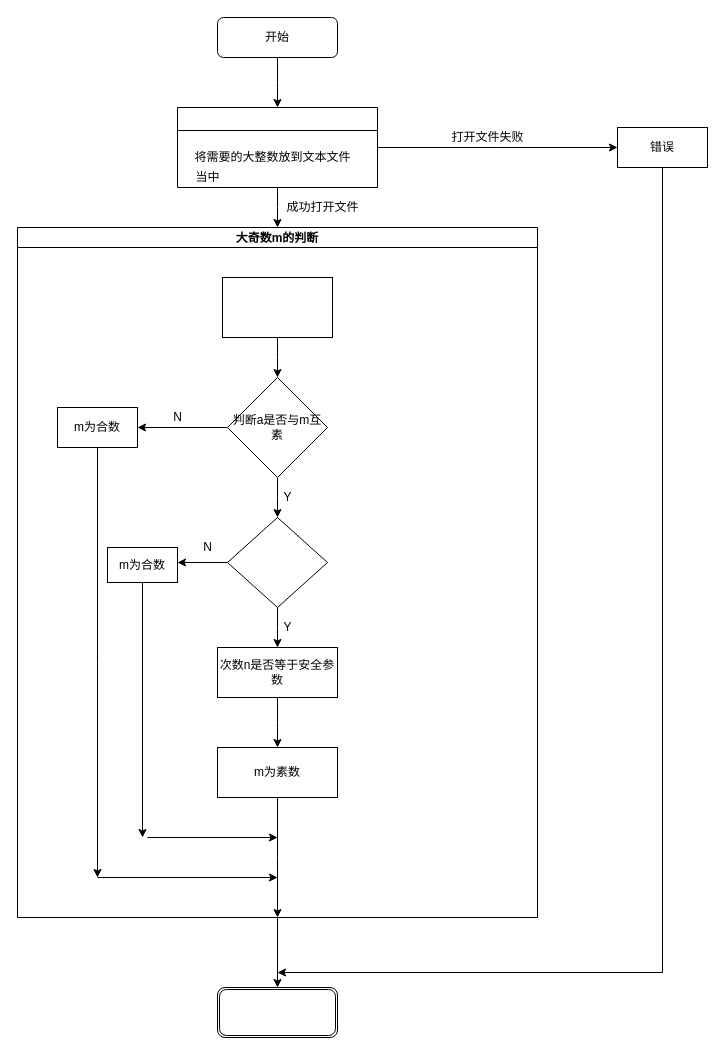
The diagram is 725 pixels wide and 1055 high, and some of its shapes have lost their labels. Each missing label, with the box of its shape:
a与m是否满足Fermat定理: (226, 516, 328, 608)
在2与m-2之间生成随机数a: (222, 276, 332, 338)
结束: (216, 986, 338, 1038)
输入需要判断的大奇数m: (176, 106, 378, 188)
